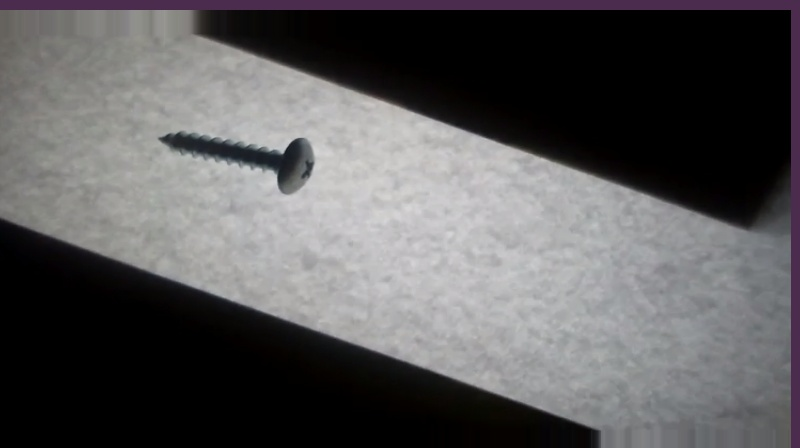S003: (152, 128, 318, 199)
